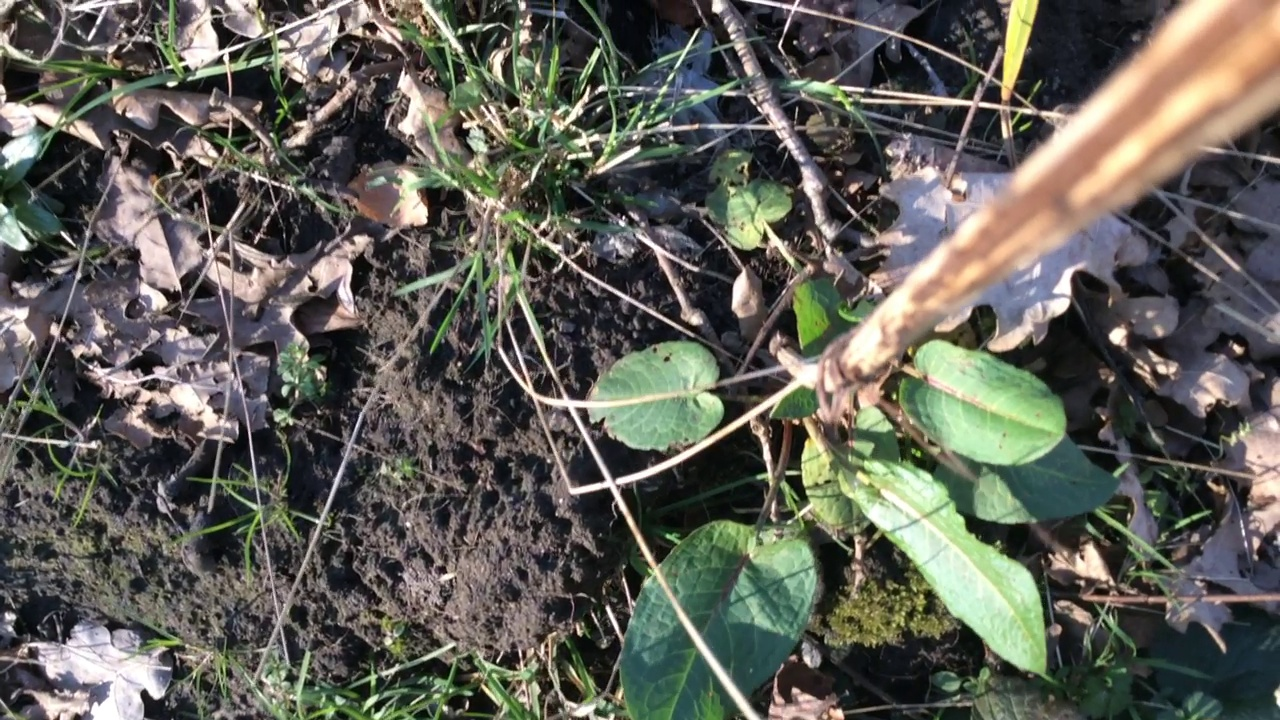rumex: (586, 148, 1120, 720)
